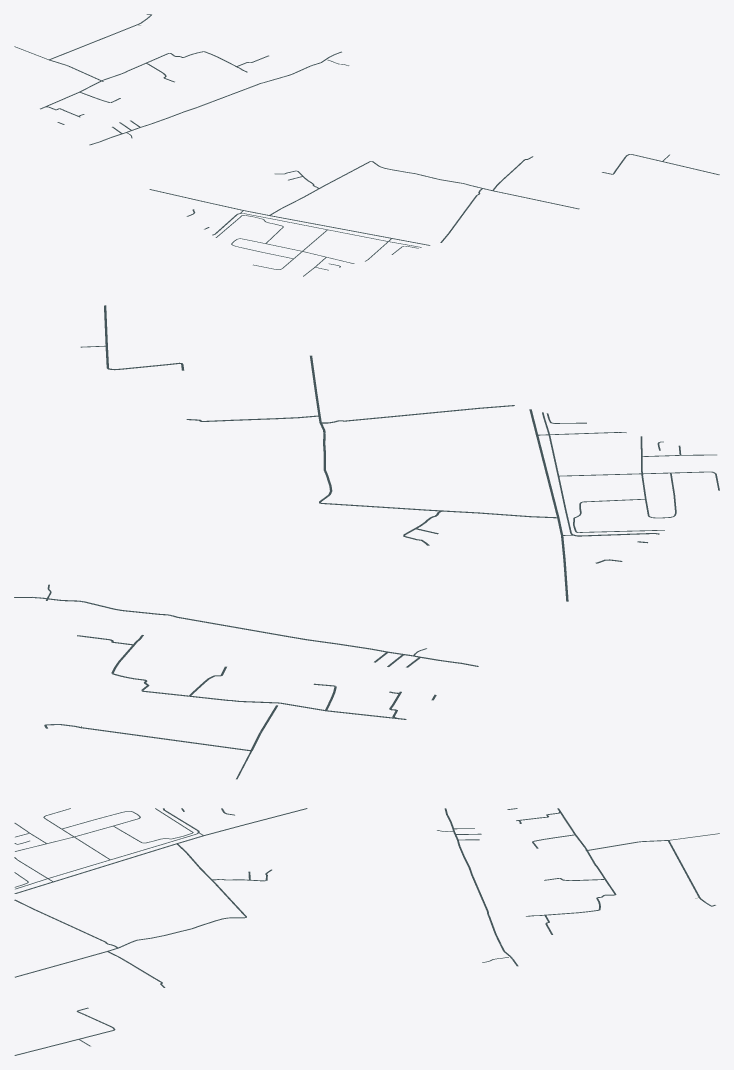
3 views of the same model, one above another, from view 1: azimuth 30°, elevation 25°; view 2: azimuth 150°, elevation 25°; view 3: azimuth 270°, elevation 25° (orthographic). The views are drawn at different scales.
Parts seen in each view (by area): view 1: street; view 2: street; view 3: street.
Boxes of the visible parts, bbox=[...] form: street: bbox=[14, 14, 719, 276]; street: bbox=[14, 305, 719, 779]; street: bbox=[14, 808, 719, 1055].
Size of the model in its own units: 1571 by 6.22 by 1891.
